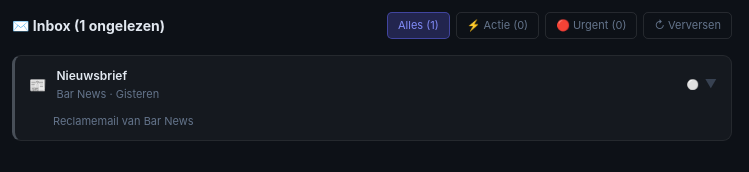
Test: MailTab › shows "Geen mails in dit filter" when filter has no results
The image size is (749, 172).
Check: the text "Nieuwsbrief" is shown, box [56,68,127,82]
Click the button "🔴 Urgent (0)". click: (591, 25)
box: [545,12,637,38]
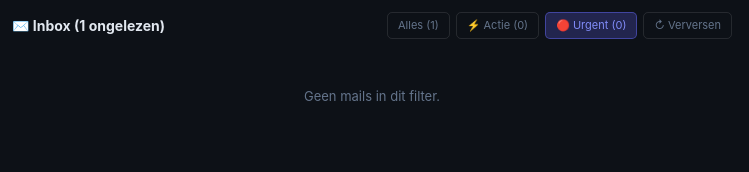
Check: the text "Geen mails in dit filter." is shown, box [304,88,440,104]
